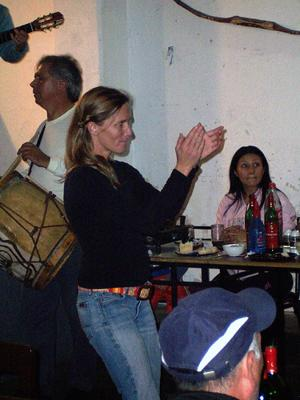person: (62, 85, 227, 400)
